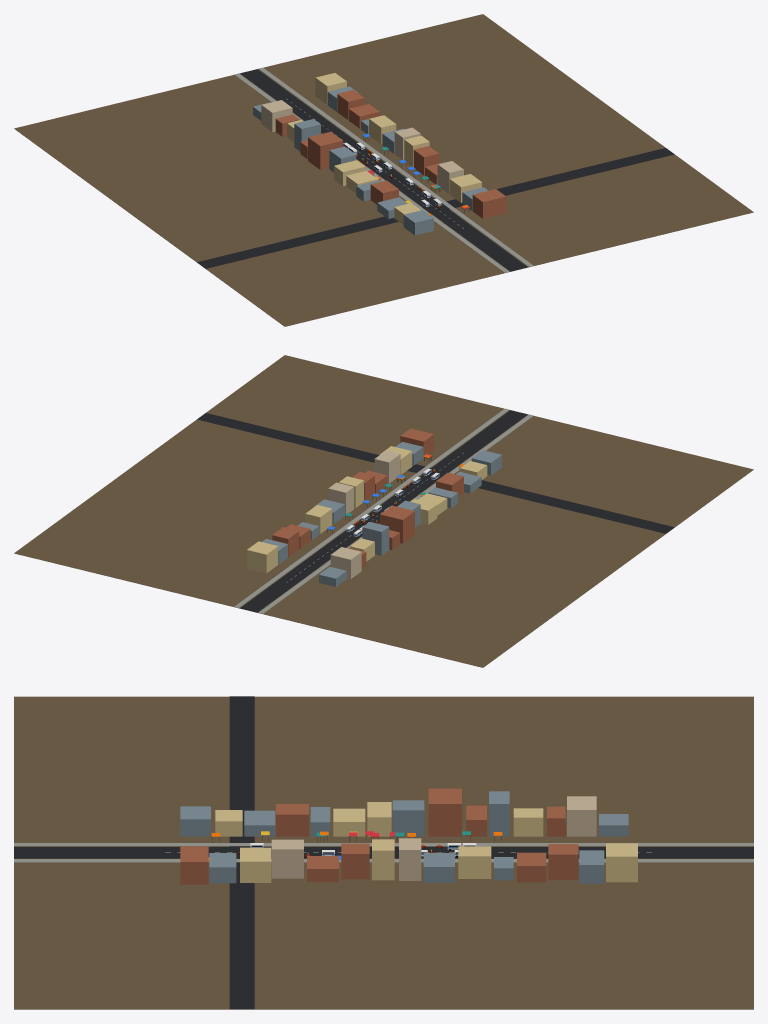
The model's file is set.glb.
3 views of the same model, one above another, from view 1: azimuth 30°, elevation 25°; view 2: azimuth 150°, elevation 25°; view 3: azimuth 270°, elevation 25° (orthographic). The views are drawn at different scales.
Bounding box in the file's own units: 240 × 11.74 × 240.
